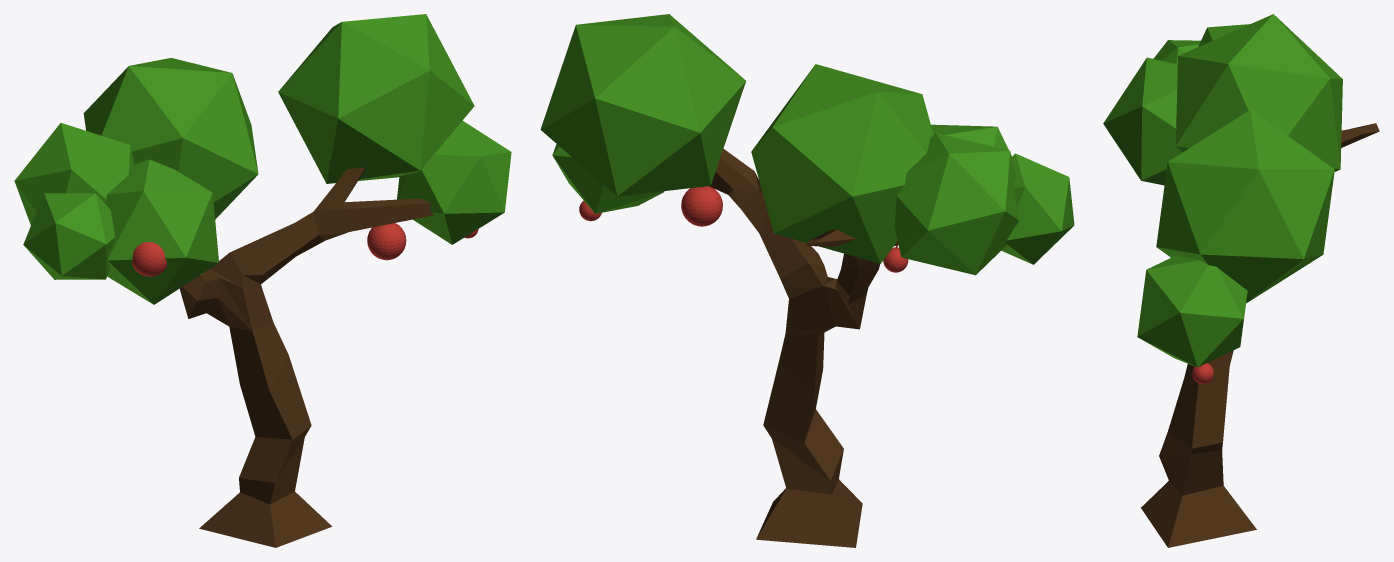
The model's file is appleTree.fbx.
The picture shows the model from 3 angles, left to right: view 1: azimuth 30°, elevation 25°; view 2: azimuth 150°, elevation 25°; view 3: azimuth 270°, elevation 25°; orthographic projection. The views are drawn at different scales.
Visible parts, largest first — view 1: Cube, Icosphere.001, Icosphere.003, Icosphere.004, Icosphere, Icosphere.005, Icosphere.002, Sphere.007, Sphere.004; view 2: Icosphere.001, Icosphere.003, Cube, Icosphere.005, Icosphere.002, Icosphere, Sphere.007, Icosphere.004; view 3: Icosphere.001, Icosphere.003, Cube, Icosphere, Icosphere.004, Icosphere.002, Icosphere.005, Sphere.005.
Boxes of the visible parts, left/top/right/bottom form: Cube: left=179, top=167, right=433, bottom=547; Icosphere.001: left=278, top=14, right=474, bottom=183; Icosphere.003: left=83, top=58, right=258, bottom=219; Icosphere.004: left=104, top=159, right=218, bottom=304; Icosphere: left=397, top=120, right=511, bottom=244; Icosphere.005: left=14, top=123, right=134, bottom=225; Icosphere.002: left=23, top=193, right=114, bottom=279; Sphere.007: left=367, top=223, right=406, bottom=260; Sphere.004: left=132, top=242, right=167, bottom=276; Icosphere.001: left=540, top=14, right=745, bottom=196; Icosphere.003: left=751, top=64, right=933, bottom=263; Cube: left=709, top=148, right=898, bottom=547; Icosphere.005: left=894, top=133, right=1018, bottom=275; Icosphere.002: left=1001, top=153, right=1074, bottom=264; Icosphere: left=552, top=144, right=664, bottom=213; Sphere.007: left=681, top=186, right=722, bottom=226; Icosphere.004: left=931, top=124, right=1011, bottom=156; Icosphere.001: left=1156, top=109, right=1334, bottom=303; Icosphere.003: left=1175, top=14, right=1342, bottom=171; Cube: left=1141, top=123, right=1379, bottom=547; Icosphere: left=1137, top=255, right=1247, bottom=367; Icosphere.004: left=1103, top=57, right=1181, bottom=185; Icosphere.002: left=1153, top=40, right=1200, bottom=63; Icosphere.005: left=1198, top=24, right=1249, bottom=46; Sphere.005: left=1192, top=363, right=1213, bottom=383.
Size of the model in its own units: 303 by 560 by 602.
